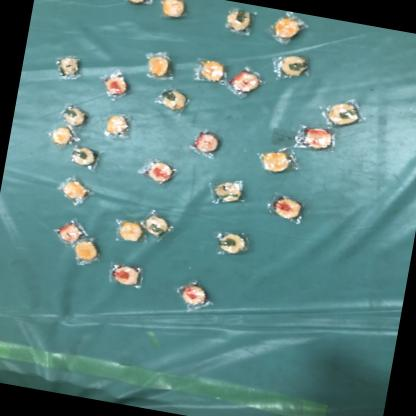green_setoshio: (313, 92, 369, 132), (263, 46, 316, 84), (204, 172, 249, 208), (208, 226, 252, 260), (219, 2, 257, 38), (152, 84, 191, 116), (140, 207, 177, 240), (56, 99, 91, 128), (51, 51, 84, 80), (67, 144, 101, 170)
red_setoshio: (290, 120, 340, 156), (225, 64, 266, 100), (266, 190, 306, 226), (141, 153, 181, 188), (174, 279, 212, 314), (186, 125, 222, 161), (105, 260, 145, 292), (96, 67, 131, 102), (52, 218, 84, 249), (120, 0, 153, 8)
yellow_setoshio: (252, 142, 299, 180), (265, 9, 308, 48), (190, 53, 230, 87), (56, 172, 94, 205), (139, 50, 173, 82), (100, 108, 132, 140), (44, 121, 78, 149), (72, 235, 102, 266), (110, 217, 142, 245), (153, 0, 191, 23)
